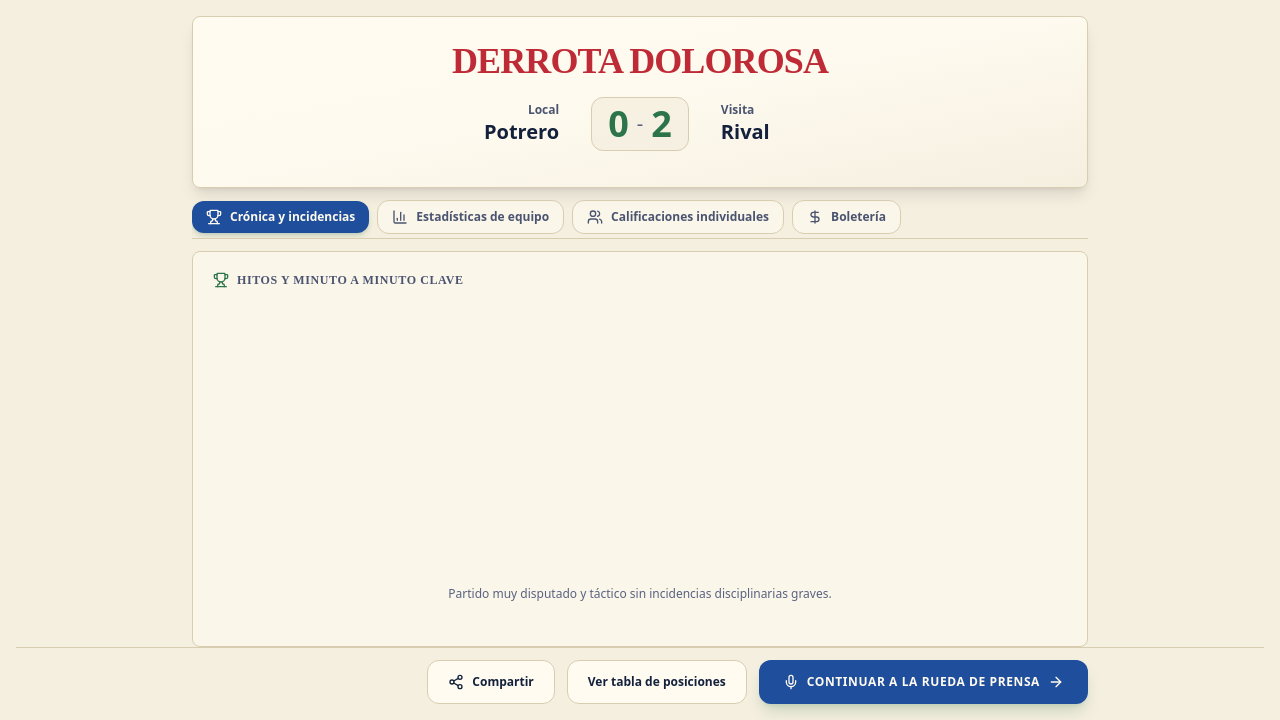
rueda de prensa después del partido › si cancelás el aviso, no pasa nada
The width and height of the screenshot is (1280, 720).
Click the button "Continuar a la rueda de prensa": point(923, 682) [759,660,1088,704]
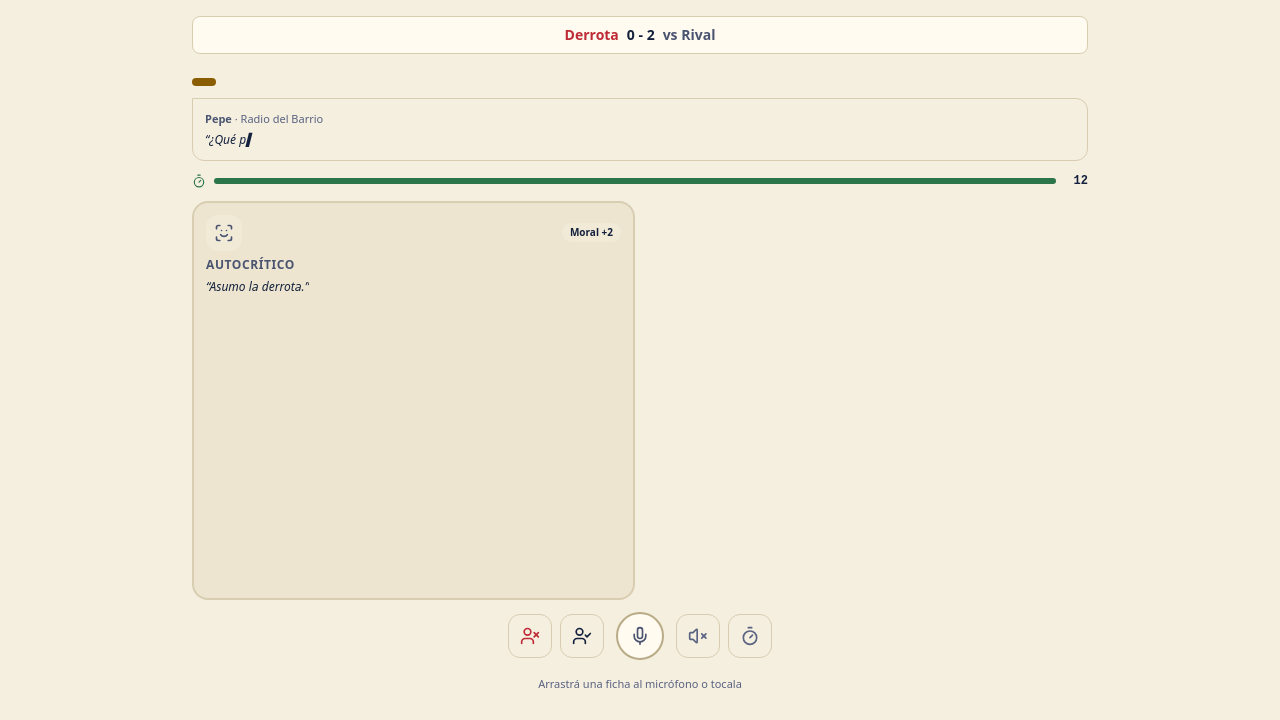
Click the button named "No presentarme": point(530, 636) [508,614,552,658]
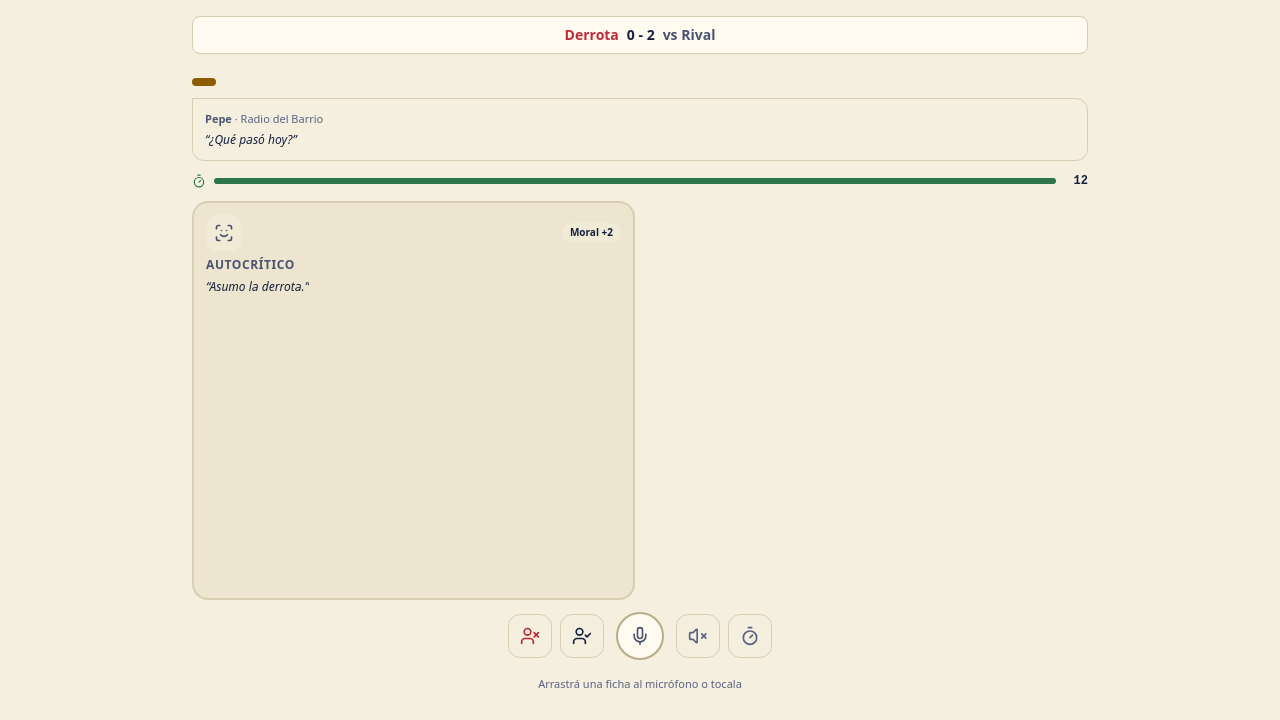
Result: the text "“¿Qué pasó hoy?”" is shown at [205,130,297,148]
